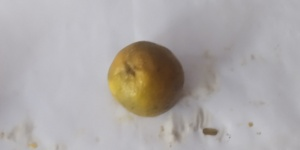BAD: (107, 39, 187, 118)
